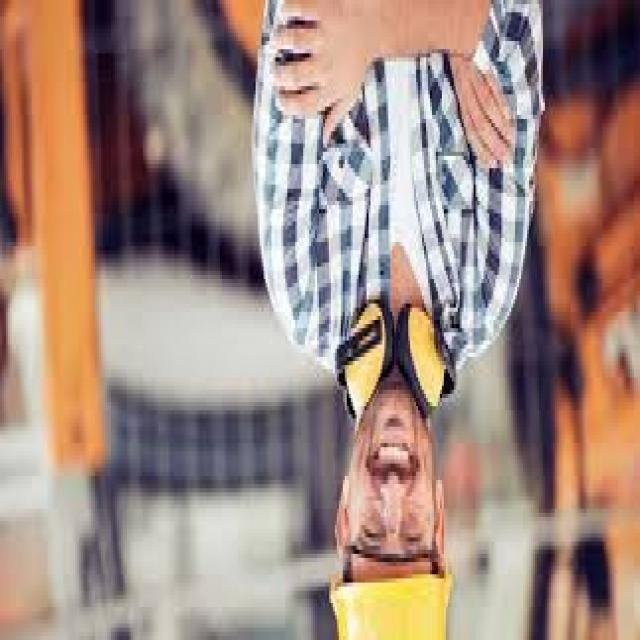safetyhelmet: (311, 530, 467, 640)
